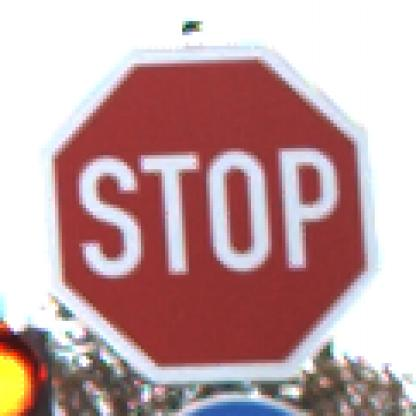Stop: (45, 57, 373, 378)
